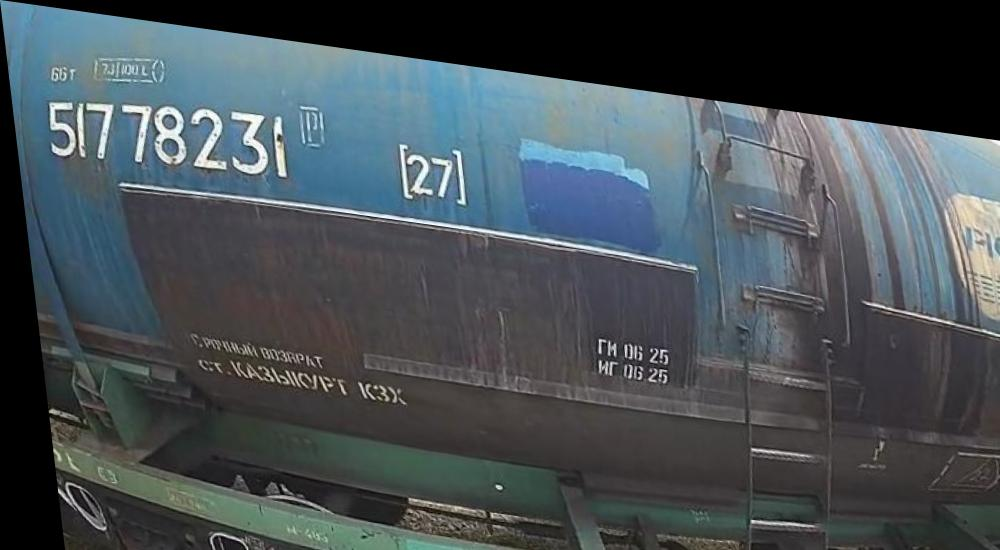Wagon-number: (38, 78, 291, 181)
